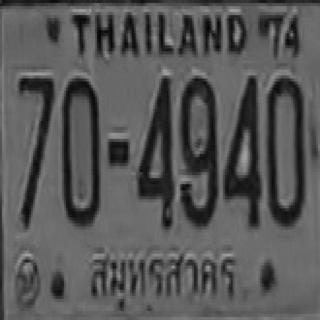N00: (60, 75, 99, 224), (266, 74, 304, 225)
N04: (223, 72, 260, 226), (136, 74, 173, 225)
N07: (18, 72, 52, 226)
N09: (178, 74, 217, 225)
P58: (80, 244, 242, 307)
